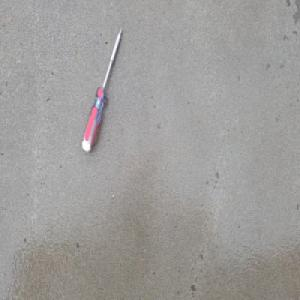Screwdriver: (80, 24, 123, 154)
